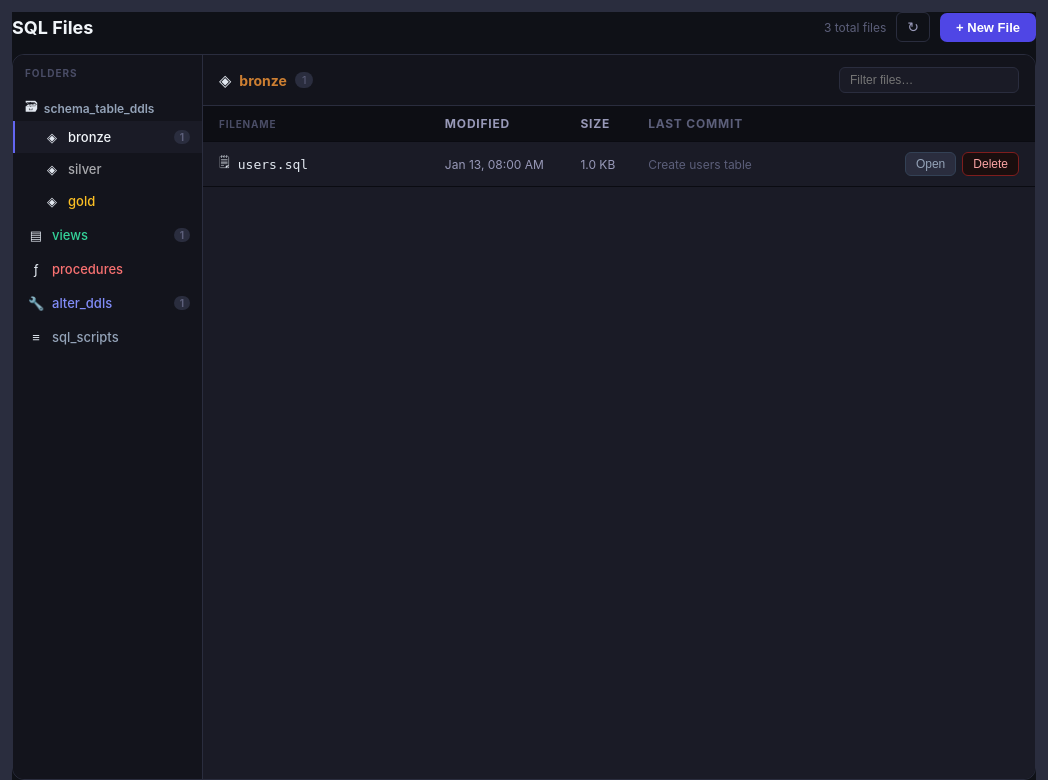
Test: FileBrowser component › search filter › filters files by search term
Click views folder first to see files
Click the text "views": [70, 235] box [52, 227, 88, 243]
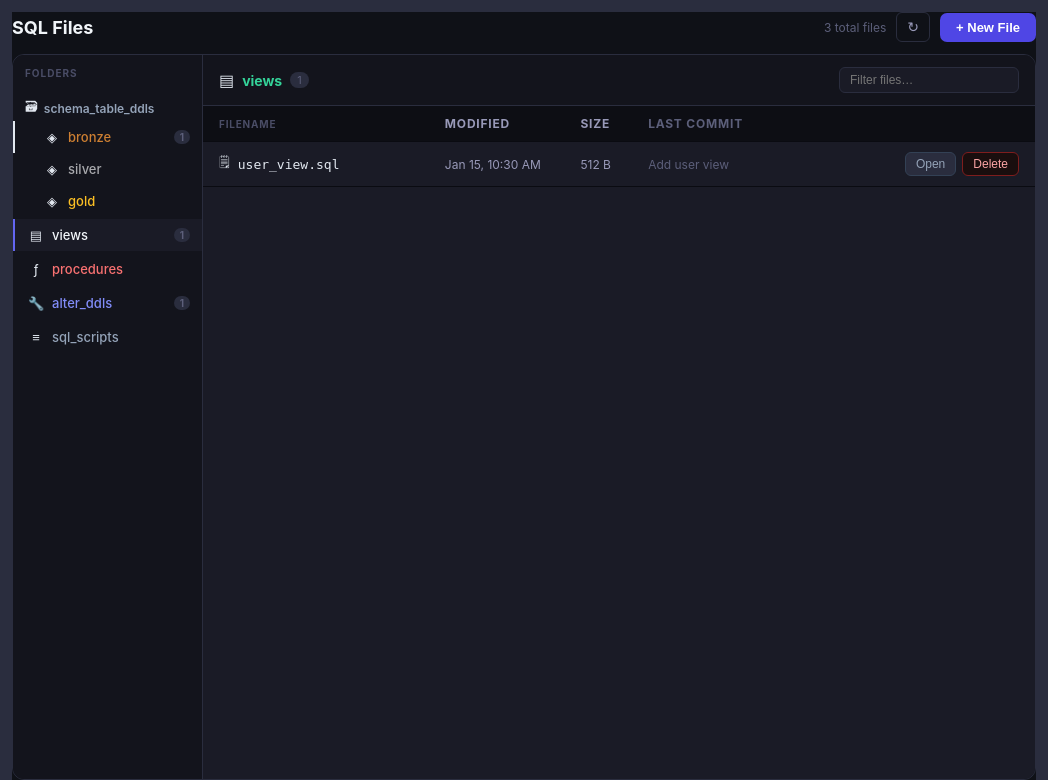
Now the text "user_view.sql" is shown, box [238, 156, 340, 172]
Now search for something that doesn't match
In the field with placeholder "Filter files…": [929, 80] box [839, 67, 1019, 93], type "xyz"
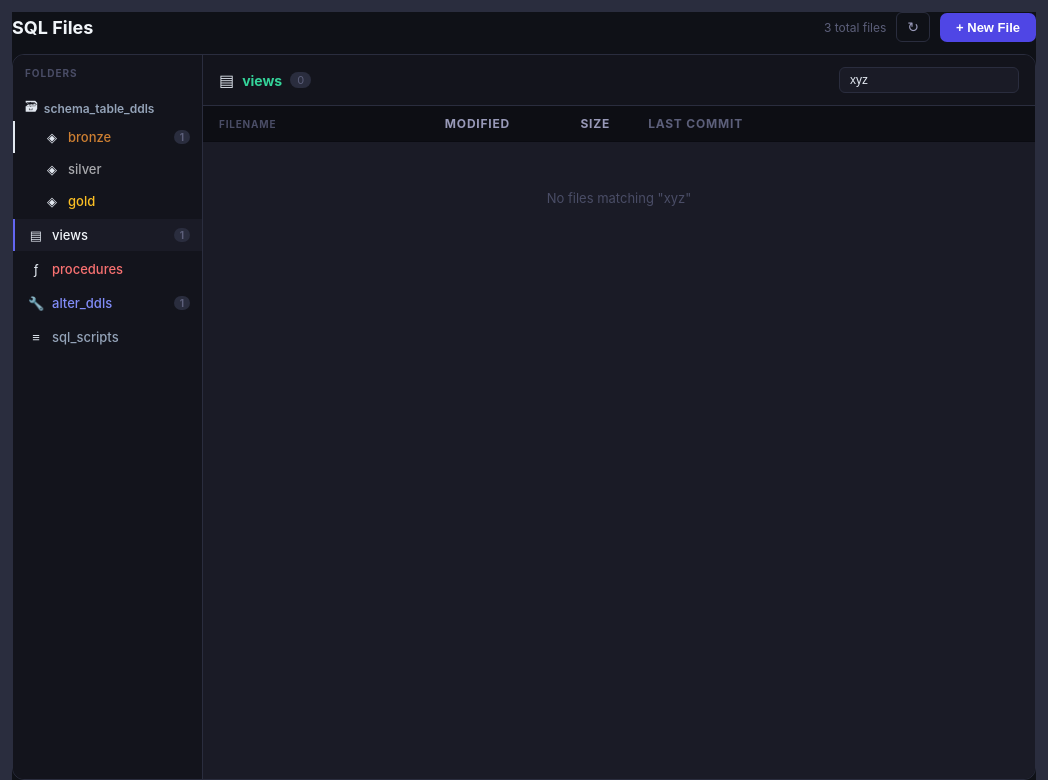
Now the text "user_view.sql" is gone
